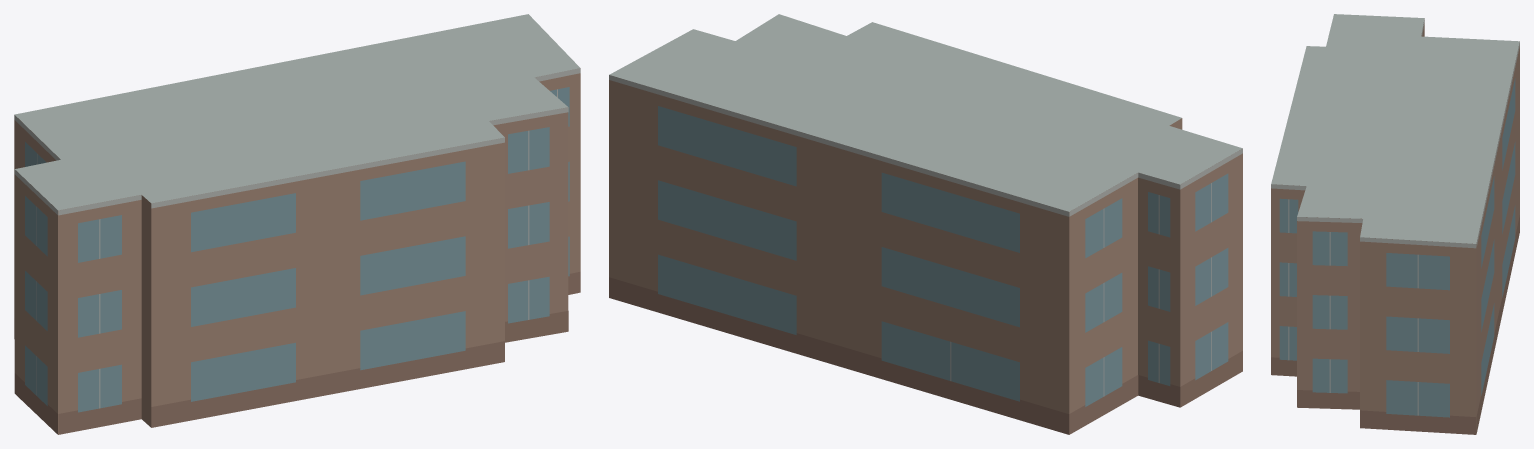
File: survey-upis-33034548.glb
3 views of the same model, side by side, from view 1: azimuth 30°, elevation 25°; view 2: azimuth 150°, elevation 25°; view 3: azimuth 270°, elevation 25° (orthographic). The views are drawn at different scales.
Visible parts, largest first — view 1: survey-upis-33034548.tmp; view 2: survey-upis-33034548.tmp; view 3: survey-upis-33034548.tmp.
Part boxes in pixels (x1=…): survey-upis-33034548.tmp: x1=14, y1=14, x2=580, y2=434; survey-upis-33034548.tmp: x1=609, y1=14, x2=1242, y2=434; survey-upis-33034548.tmp: x1=1271, y1=14, x2=1519, y2=434.
Size of the model in its own units: 27.91 by 10.8 by 12.76.
